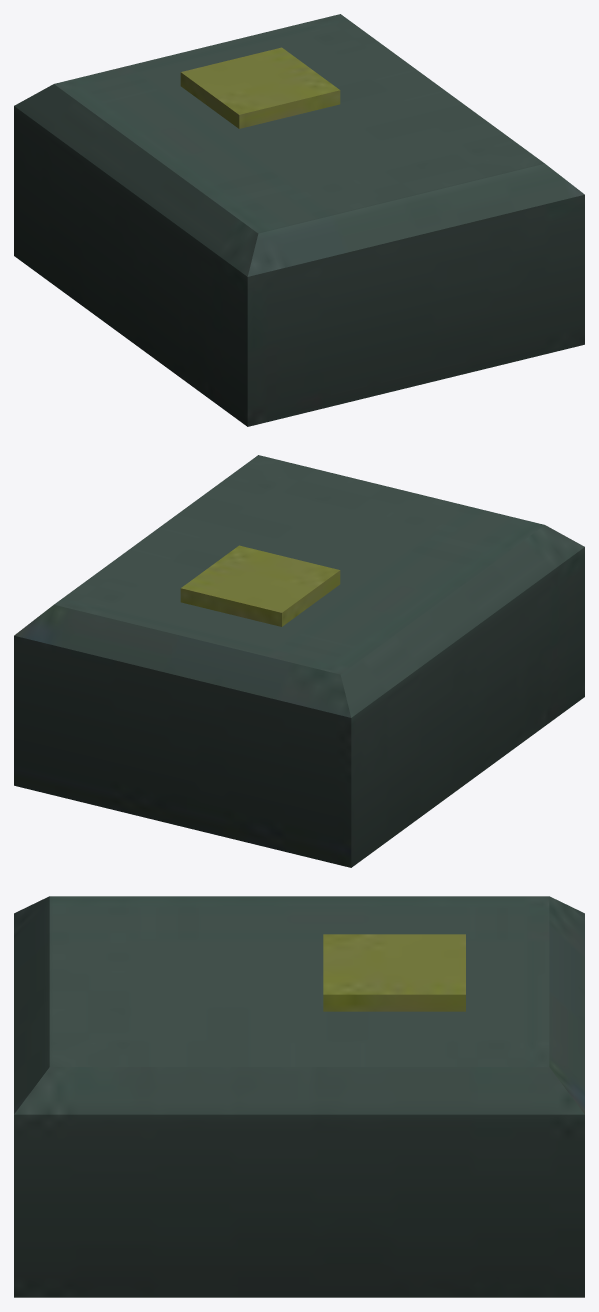
File: arithmetic-combinator.glb
3 views of the same model, one above another, from view 1: azimuth 30°, elevation 25°; view 2: azimuth 150°, elevation 25°; view 3: azimuth 270°, elevation 25° (orthographic). The views are drawn at different scales.
Visible parts, largest first — view 1: arithmetic-combinator; view 2: arithmetic-combinator; view 3: arithmetic-combinator.
Part boxes in pixels (x1,y1,x2,y2): arithmetic-combinator: (14,14,584,426); arithmetic-combinator: (14,455,584,867); arithmetic-combinator: (14,896,584,1297).
Bounding box in the file's own units: 0.2 × 0.108 × 0.24.
1 material, 1 textured.
